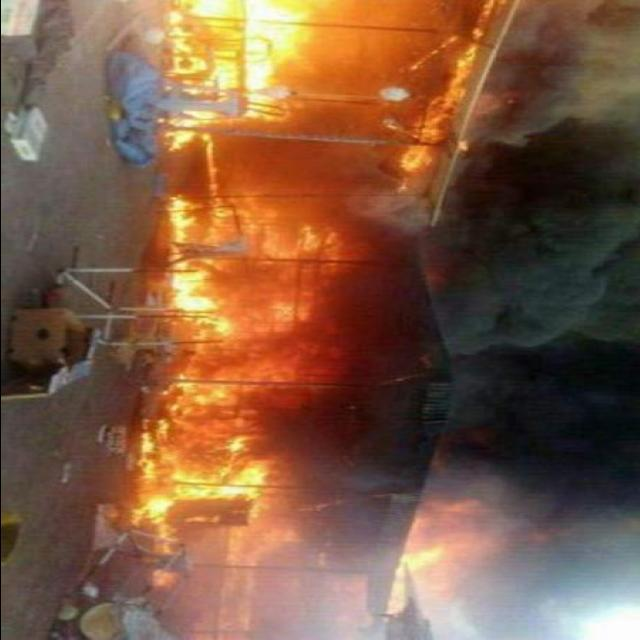Fire: (136, 198, 350, 580), (158, 3, 314, 143)
